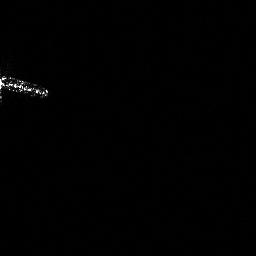ship: (1, 73, 50, 101)
